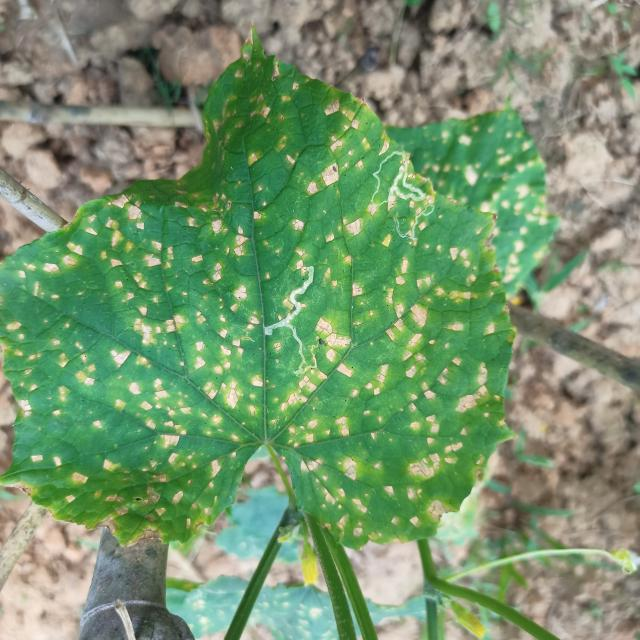disease_cucumber: (19, 100, 494, 534)
